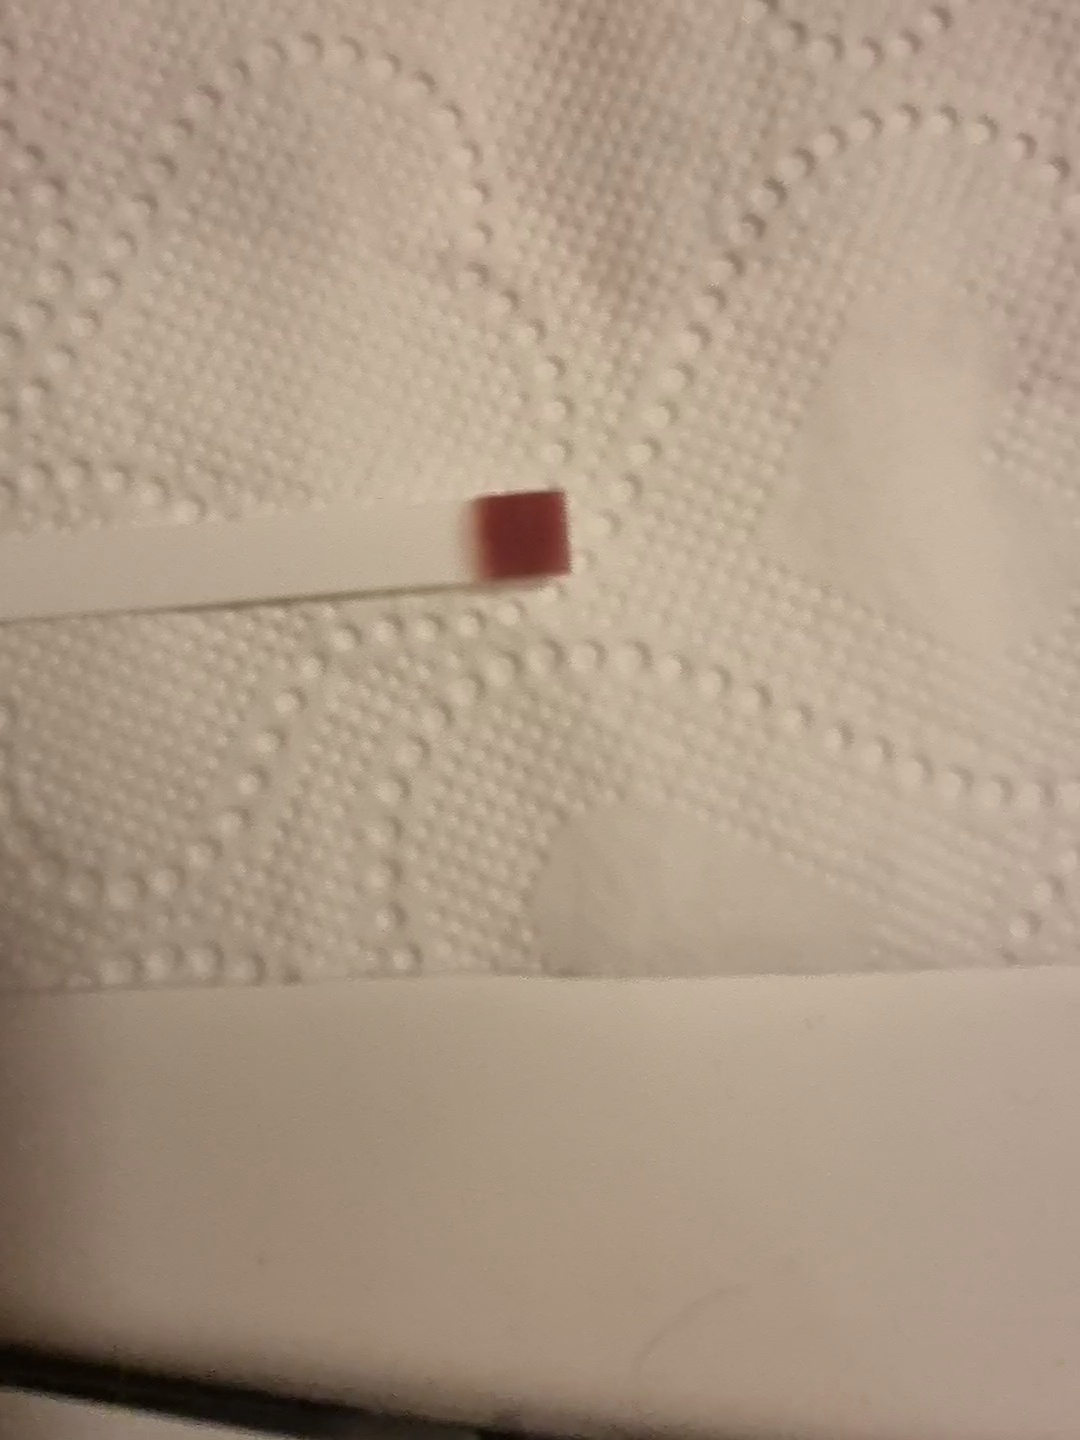keto-tip: (461, 478, 582, 591)
